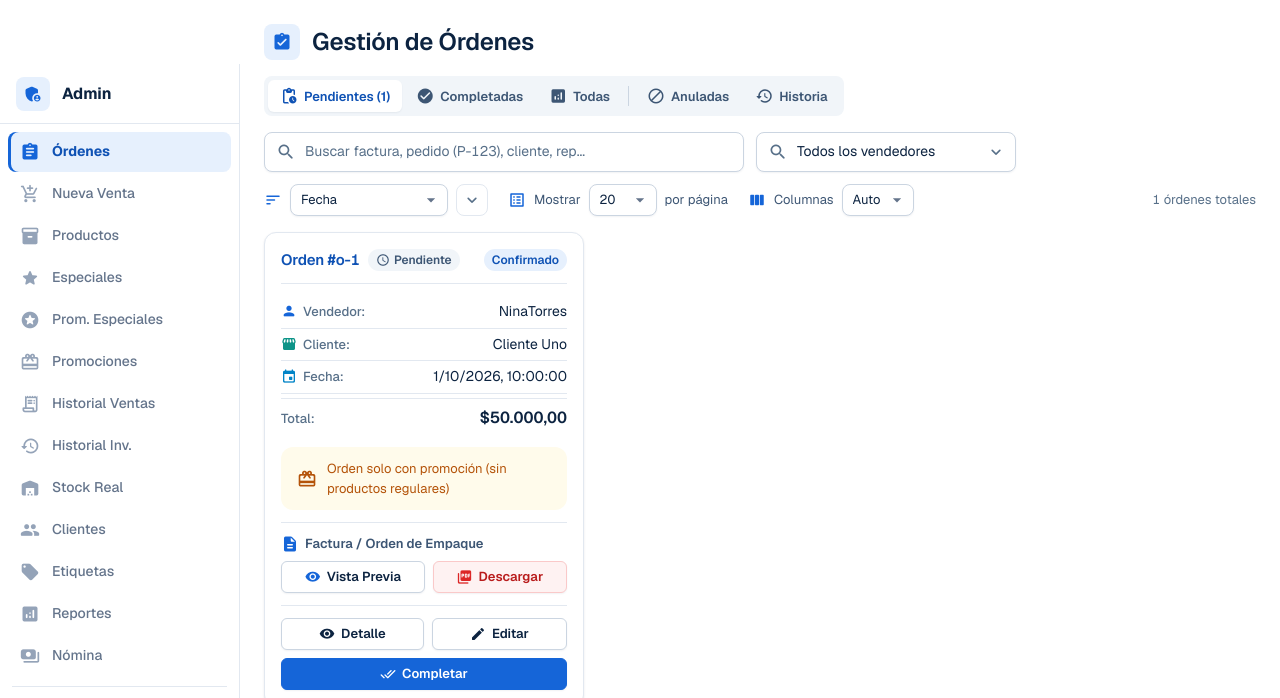
Scenario: "Cancelar" cierra la espera de un modal sin esperar a que termine la descarga
The image size is (1280, 698).
Click the button "Editar" at (499, 634), box [432,618,567,650]
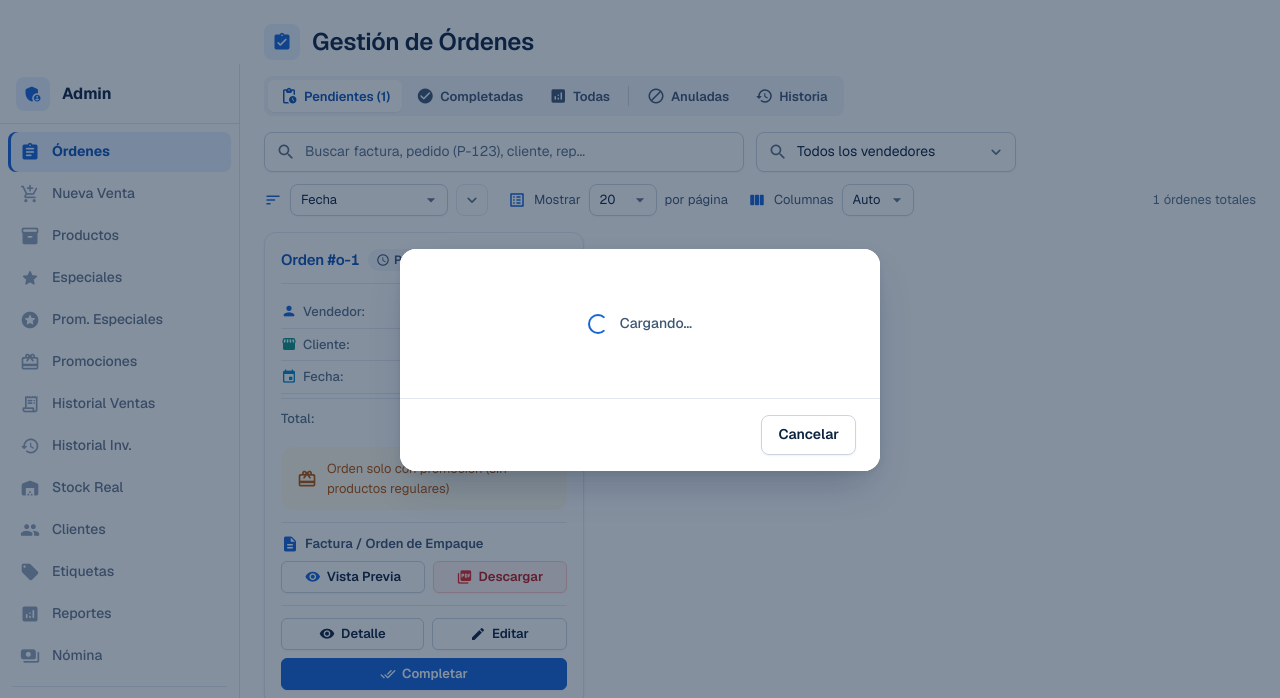
Expected: the message reads "Cargando…", [620,314,692,332]
Click the button "Cancelar" at (809, 435), box [762,415,856,455]
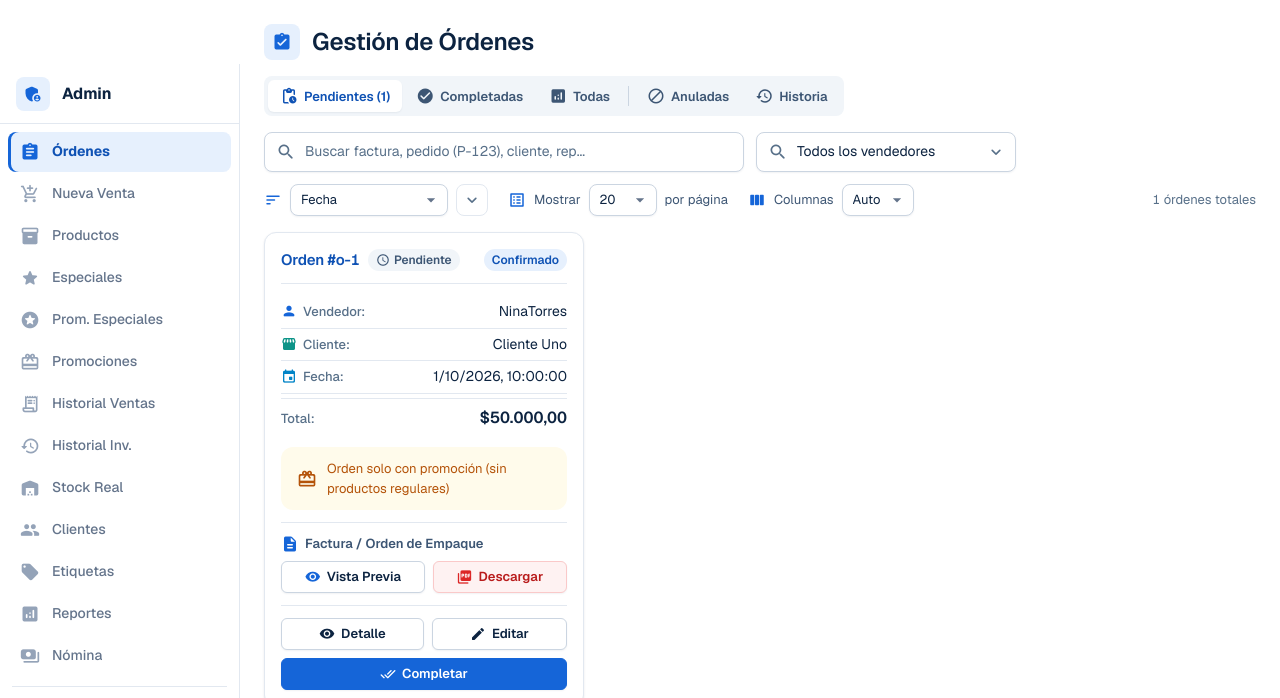
Expected: the button "Editar" is shown, [432,618,567,650]
Expected: the message "Cargando…" is gone
